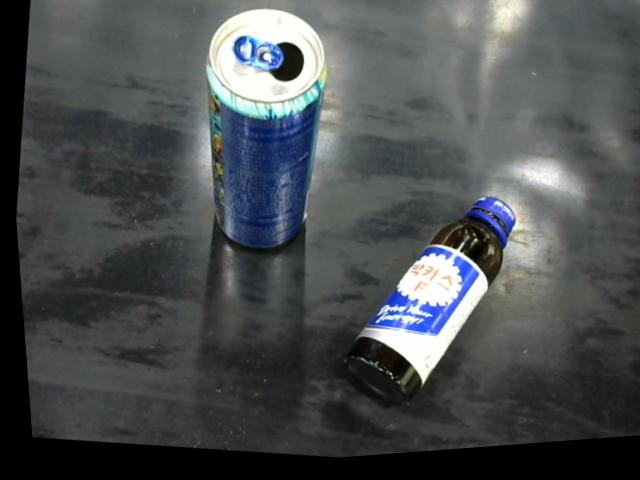can: (177, 1, 344, 266)
glass: (336, 204, 513, 413)
